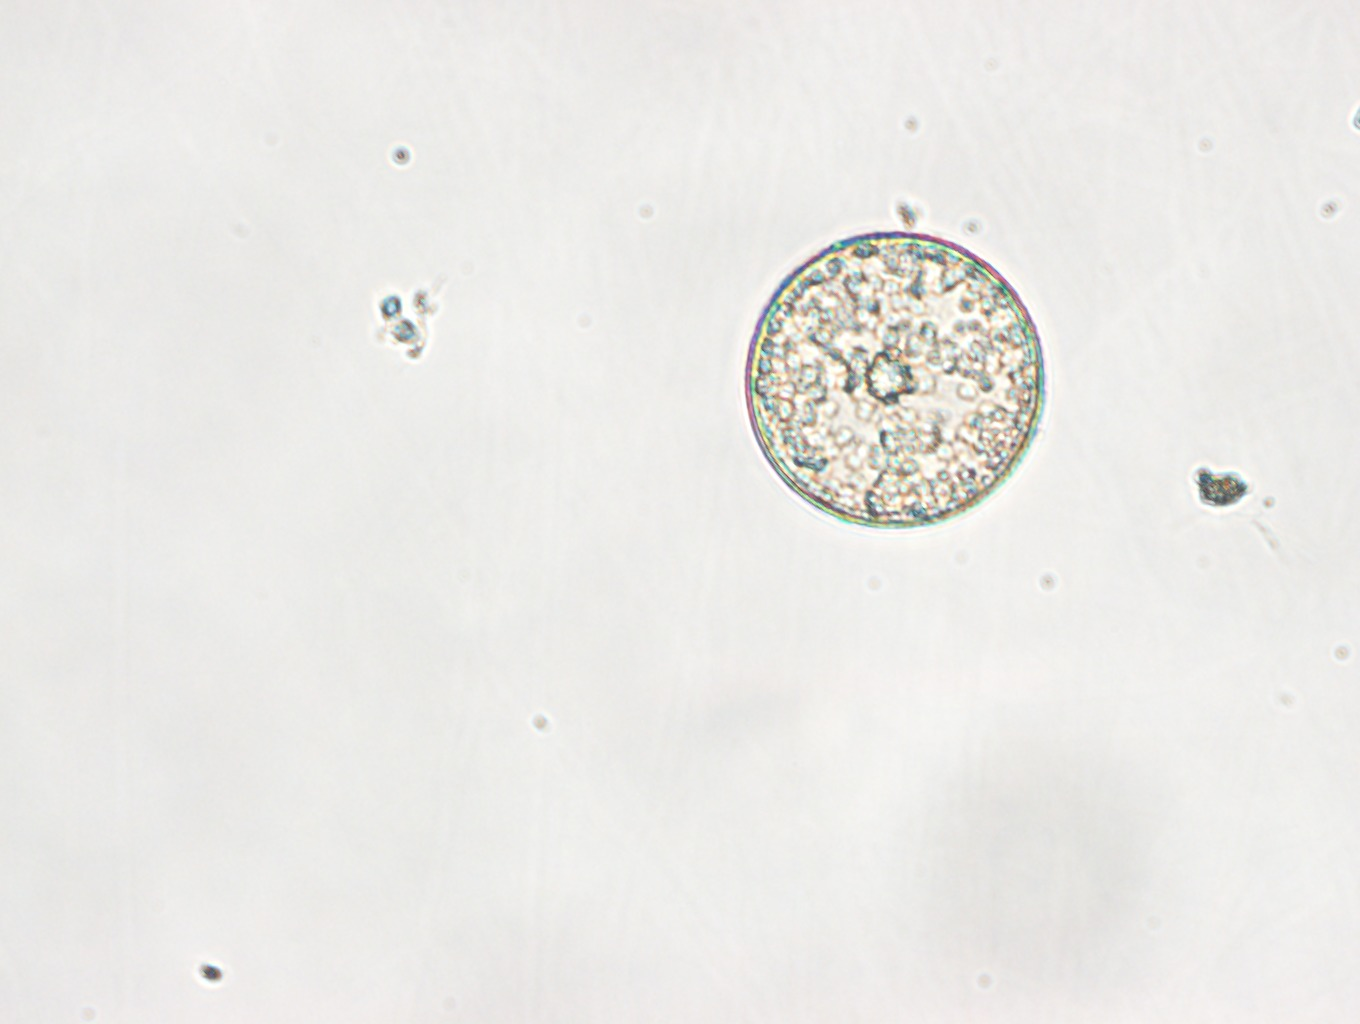coscinodiscus: (742, 230, 1047, 529)
